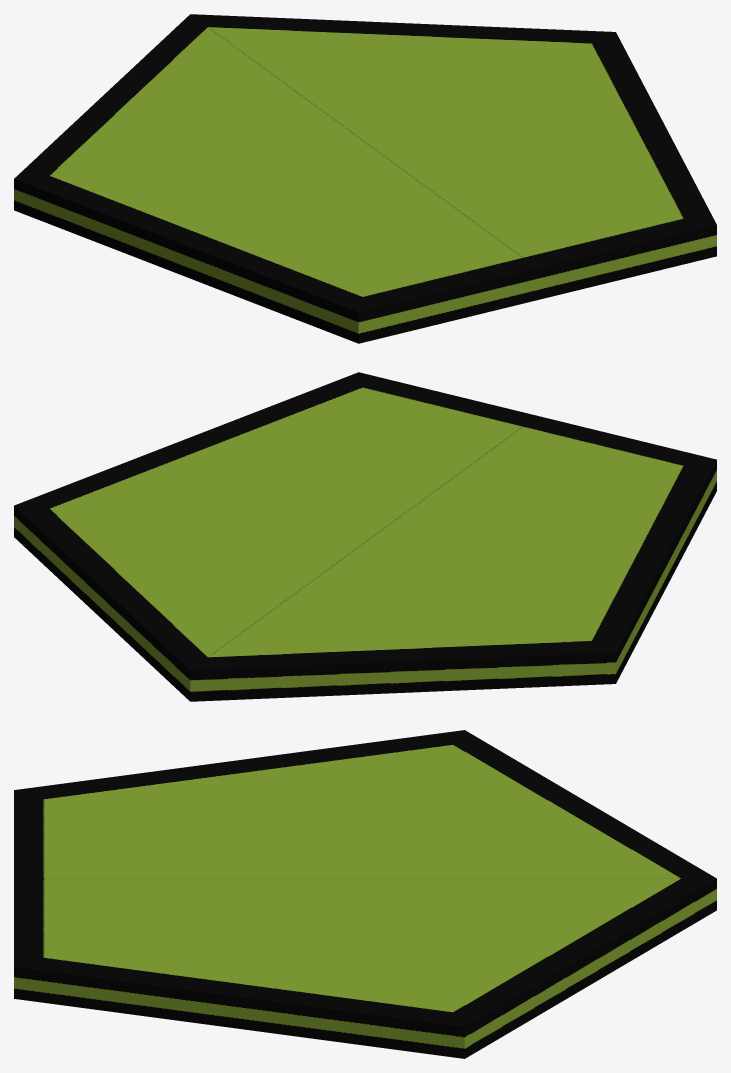
File: Player4TileModel.fbx
The picture shows the model from 3 angles, top to bottom: view 1: azimuth 30°, elevation 25°; view 2: azimuth 150°, elevation 25°; view 3: azimuth 270°, elevation 25°; orthographic projection.
Parts seen in each view (by area): view 1: 4-Tile; view 2: 4-Tile; view 3: 4-Tile.
Boxes of the visible parts, left/top/right/bottom form: 4-Tile: left=14, top=14, right=716, bottom=343; 4-Tile: left=14, top=372, right=716, bottom=701; 4-Tile: left=14, top=730, right=716, bottom=1058.
Size of the model in its own units: 200 by 10 by 200.
Materials: 1 (1 with a texture image).
